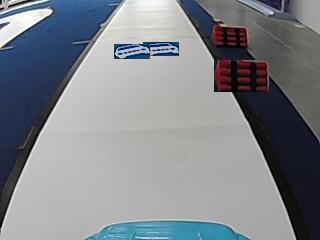bomb: (210, 24, 248, 46)
